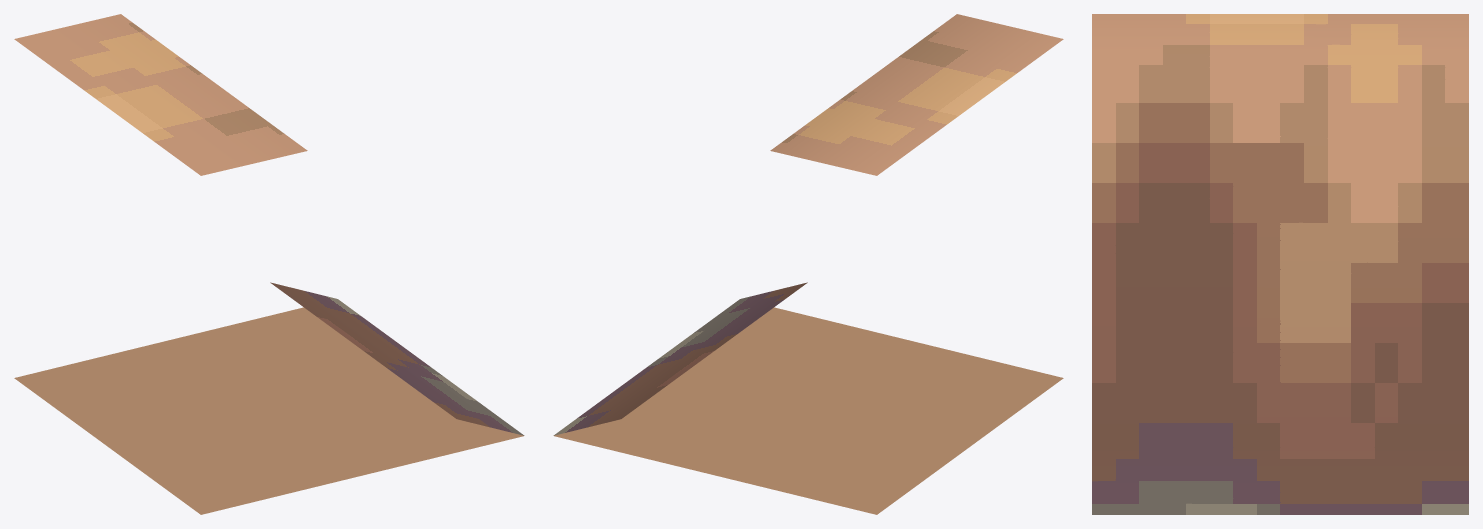
3 views of the same model, side by side, from view 1: azimuth 30°, elevation 25°; view 2: azimuth 150°, elevation 25°; view 3: azimuth 270°, elevation 25° (orthographic).
Size of the model in its own units: 1 by 1 by 1.
1 material, 1 textured.
